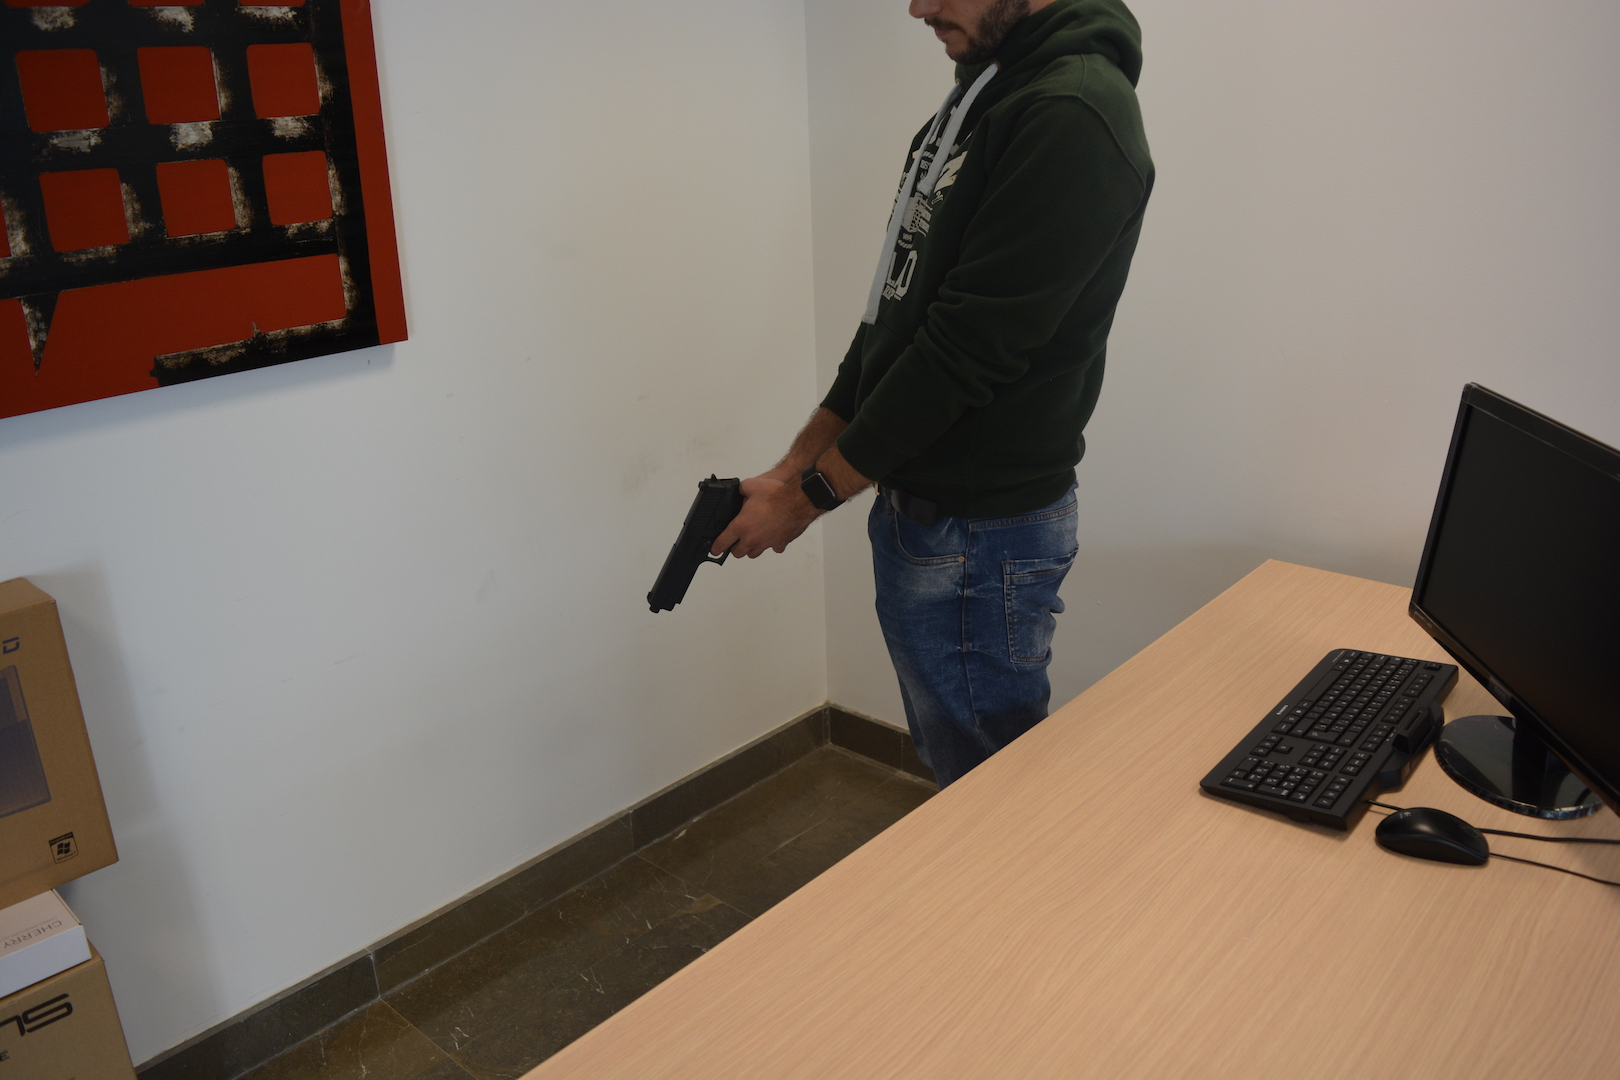pistol: (647, 472, 747, 614)
